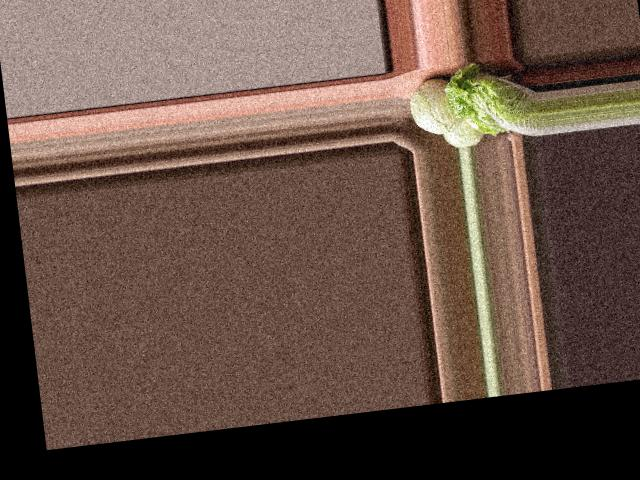lettuce: (441, 54, 541, 143)
